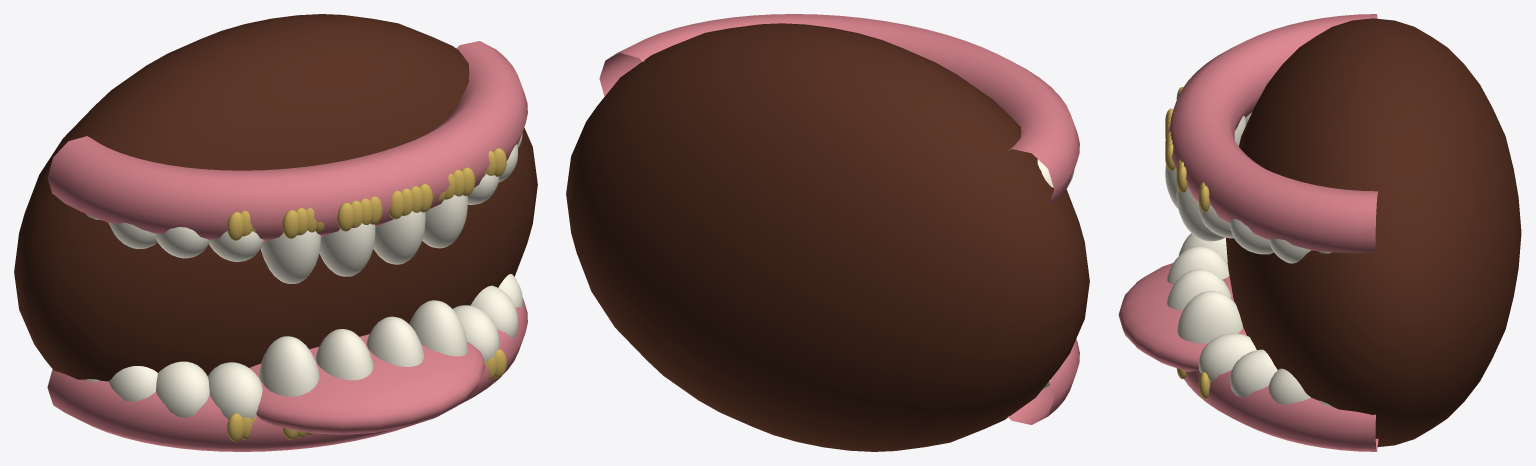
File: mouth-rodent-tartar.glb
3 renders of one model, left to right at view 1: azimuth 30°, elevation 25°; view 2: azimuth 150°, elevation 25°; view 3: azimuth 270°, elevation 25°, orthographic. The views are drawn at different scales.
Visible parts, largest first — view 1: oral cavity, gingiva.009, tongue.004, gingiva.008, tooth.180, tooth.179, tooth.178, tooth.183, tooth.192, tooth.181, tooth.193, tooth.182 (+9 smaller); view 2: oral cavity, gingiva.009, gingiva.008; view 3: oral cavity, gingiva.009, gingiva.008, tongue.004, tooth.183, tooth.184, tooth.185, tooth.182, tooth.181, tooth.195, tooth.186, tooth.197 (+3 smaller).
Part boxes in pixels (x1,y1,x2,y2): oral cavity: (14, 14, 537, 381); gingiva.009: (47, 41, 527, 242); tongue.004: (249, 334, 485, 434); gingiva.008: (47, 297, 527, 451); tooth.180: (259, 336, 319, 396); tooth.179: (208, 362, 262, 419); tooth.178: (156, 361, 209, 417); tooth.183: (409, 300, 467, 356); tooth.192: (260, 230, 320, 283); tooth.181: (315, 329, 373, 380); tooth.193: (319, 223, 375, 276); tooth.182: (366, 316, 423, 366); oral cavity: (566, 23, 1089, 451); gingiva.009: (599, 14, 1079, 204); gingiva.008: (1008, 339, 1079, 424); oral cavity: (1226, 18, 1521, 446); gingiva.009: (1167, 14, 1378, 253); gingiva.008: (1184, 369, 1378, 451); tongue.004: (1118, 263, 1246, 371); tooth.183: (1177, 291, 1243, 343); tooth.184: (1198, 333, 1256, 382); tooth.185: (1229, 349, 1277, 397); tooth.182: (1166, 269, 1231, 310); tooth.181: (1167, 246, 1229, 283); tooth.195: (1176, 186, 1224, 241); tooth.186: (1268, 368, 1310, 405); tooth.197: (1229, 219, 1273, 254).
Bounding box in the file's own units: 1.3 × 0.98 × 0.98.
